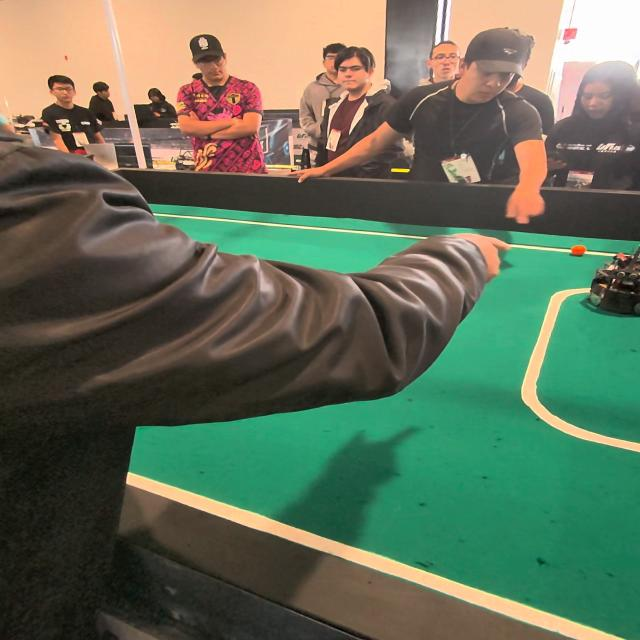Robot: (589, 246, 640, 322)
pelota: (572, 244, 586, 256)
